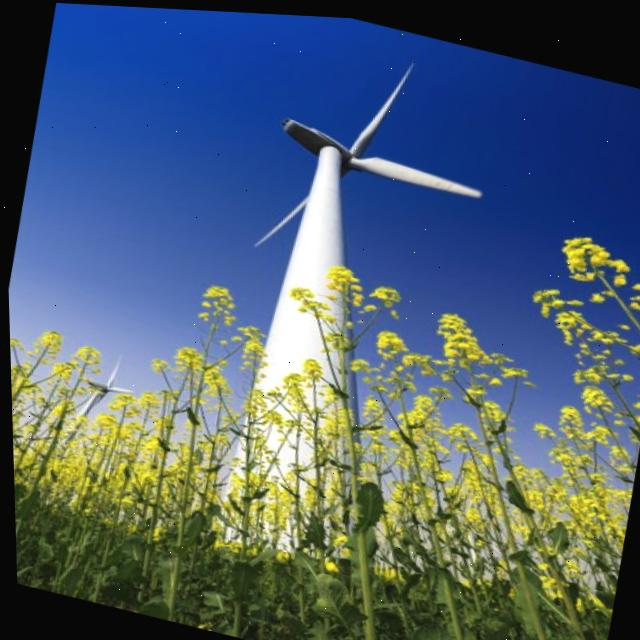solid-blade: (348, 58, 414, 152), (348, 153, 481, 194)
wind-turbine: (254, 61, 480, 387)
